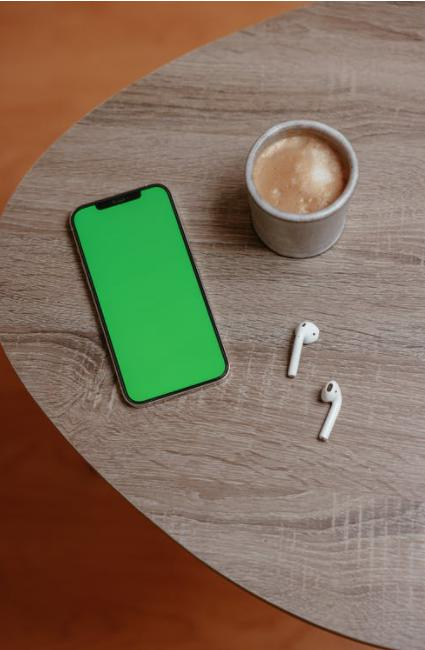mobile: (70, 185, 228, 408)
